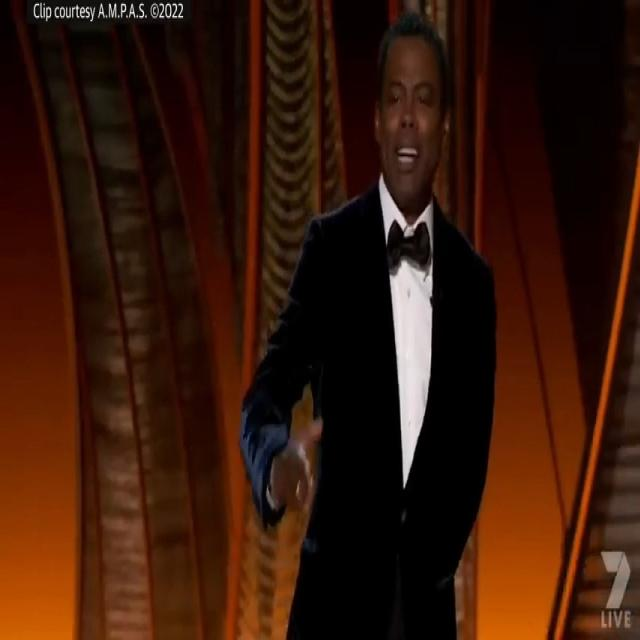non-fight: (222, 4, 517, 640)
